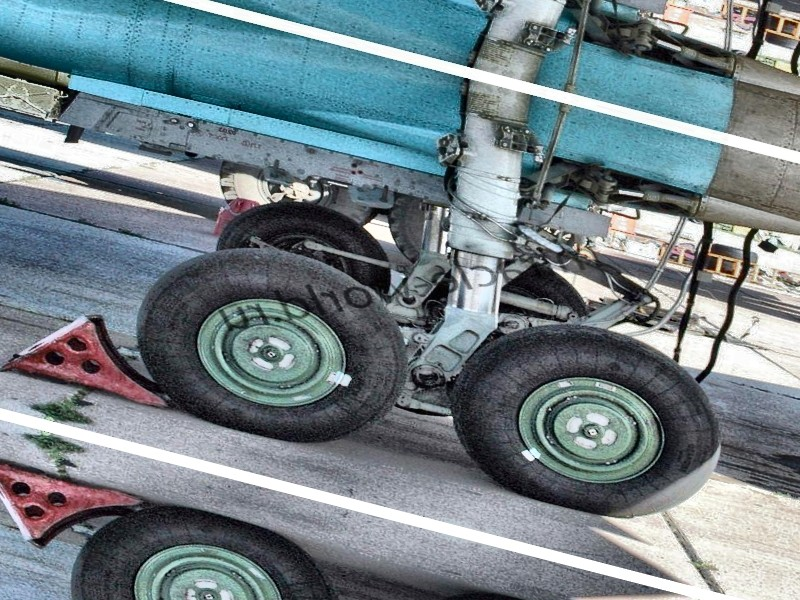chock: (0, 292, 187, 415), (0, 450, 147, 573)
wheel: (429, 294, 746, 543), (114, 217, 426, 468), (46, 482, 358, 600), (214, 183, 405, 296), (491, 254, 604, 335)
